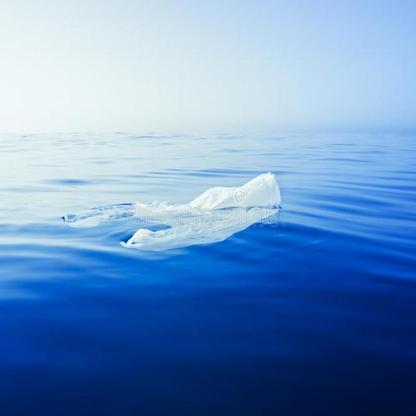plastic bag: (62, 172, 281, 248)
